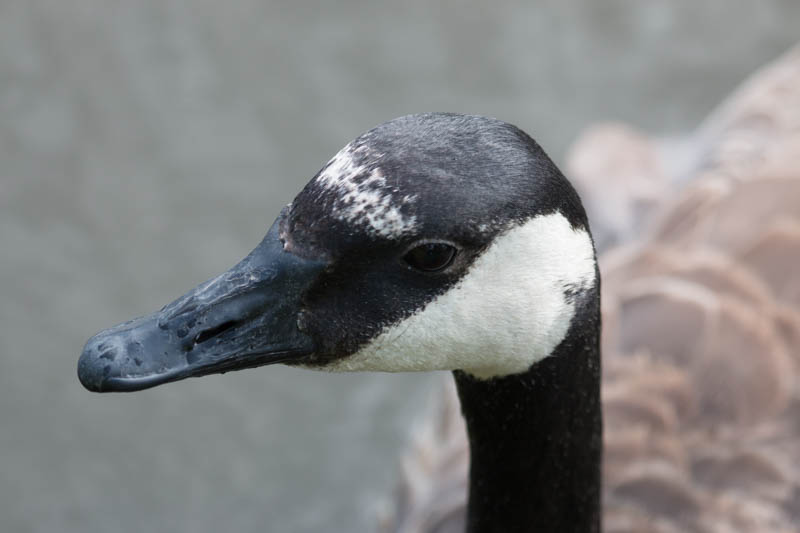goose-head: (75, 112, 603, 394)
